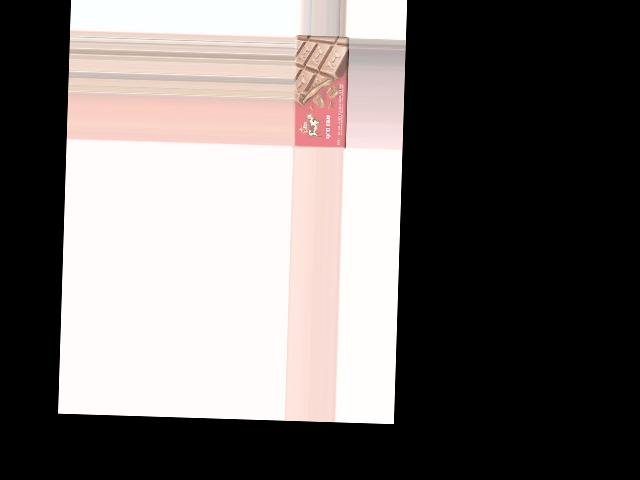chocolate: (292, 36, 348, 149)
